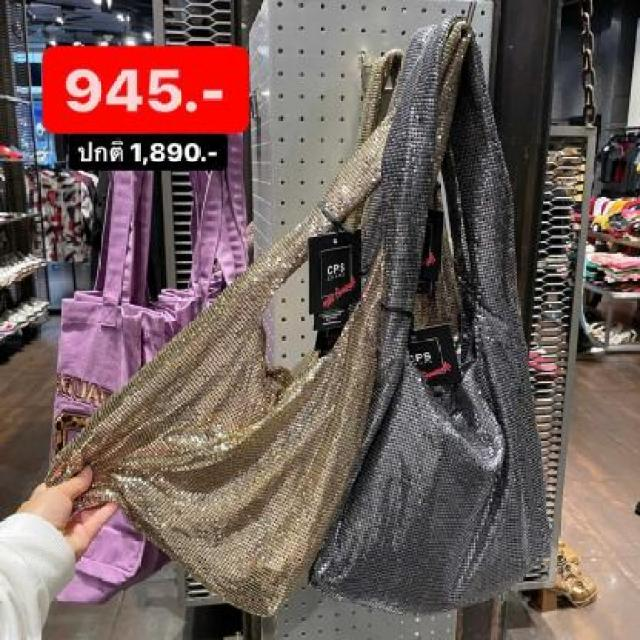Bag: (11, 6, 397, 640), (306, 29, 640, 640)
